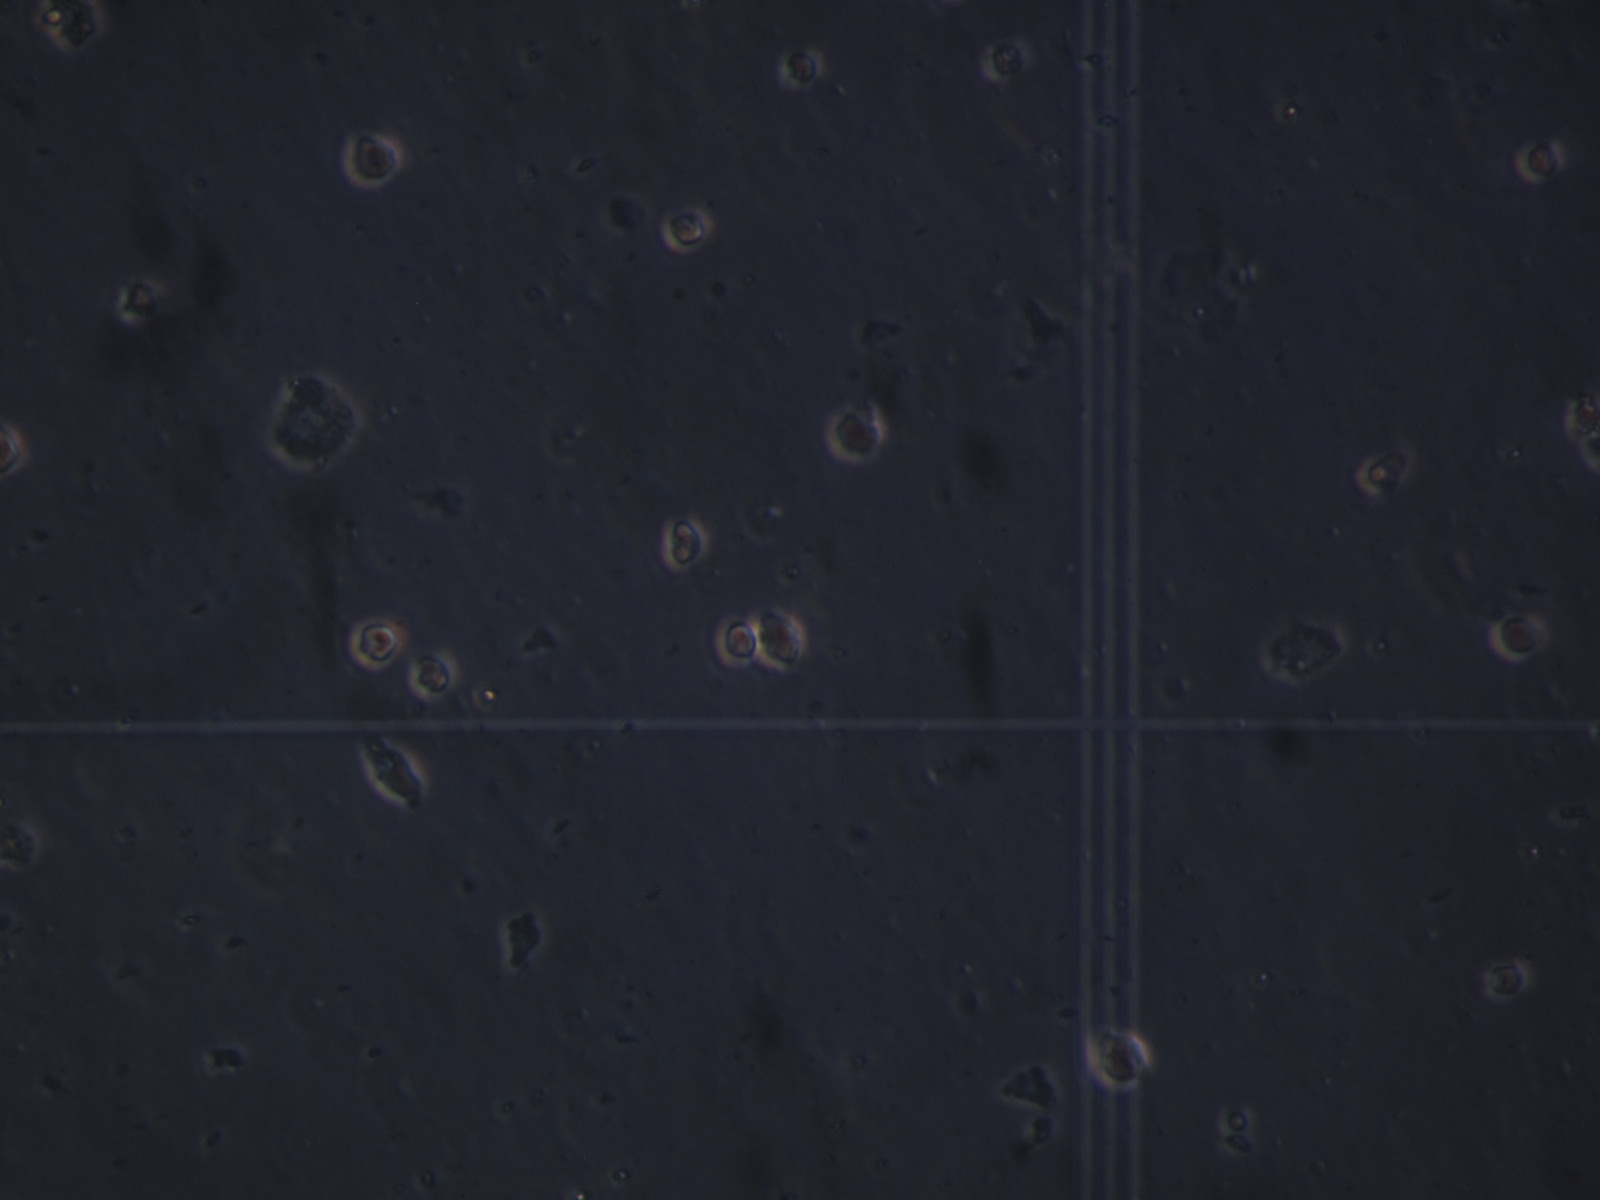hemo: (1259, 618, 1346, 683), (1086, 1029, 1150, 1089), (753, 608, 808, 676), (344, 129, 404, 187), (828, 407, 888, 464), (42, 1, 106, 50), (351, 616, 406, 669), (1357, 446, 1414, 497), (1490, 613, 1547, 662), (661, 205, 712, 255), (979, 37, 1034, 81), (664, 517, 707, 571), (118, 275, 161, 329), (1514, 139, 1565, 184), (716, 616, 760, 667), (412, 650, 459, 696), (1483, 958, 1529, 1000), (781, 47, 826, 86), (1, 421, 29, 480)
